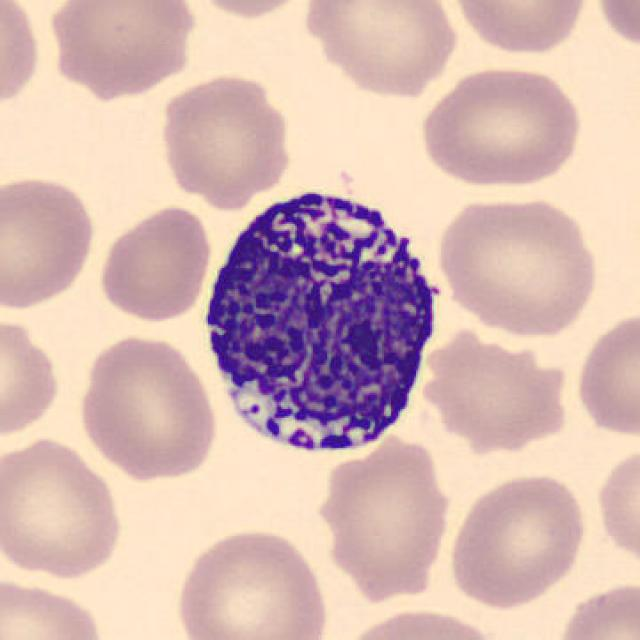Basophil: (190, 171, 452, 473)
RBC: (432, 190, 603, 338), (311, 430, 455, 601), (73, 330, 222, 483), (412, 62, 588, 190), (444, 467, 590, 610), (155, 70, 297, 210), (170, 523, 332, 640), (0, 432, 126, 582), (300, 0, 462, 100), (45, 0, 199, 99), (94, 201, 215, 324), (0, 171, 100, 314), (571, 305, 638, 441), (446, 0, 592, 58), (0, 312, 64, 444), (0, 575, 108, 640), (336, 604, 506, 640), (592, 441, 638, 573), (551, 578, 638, 640), (0, 0, 43, 118), (590, 0, 640, 56), (179, 0, 321, 19)
